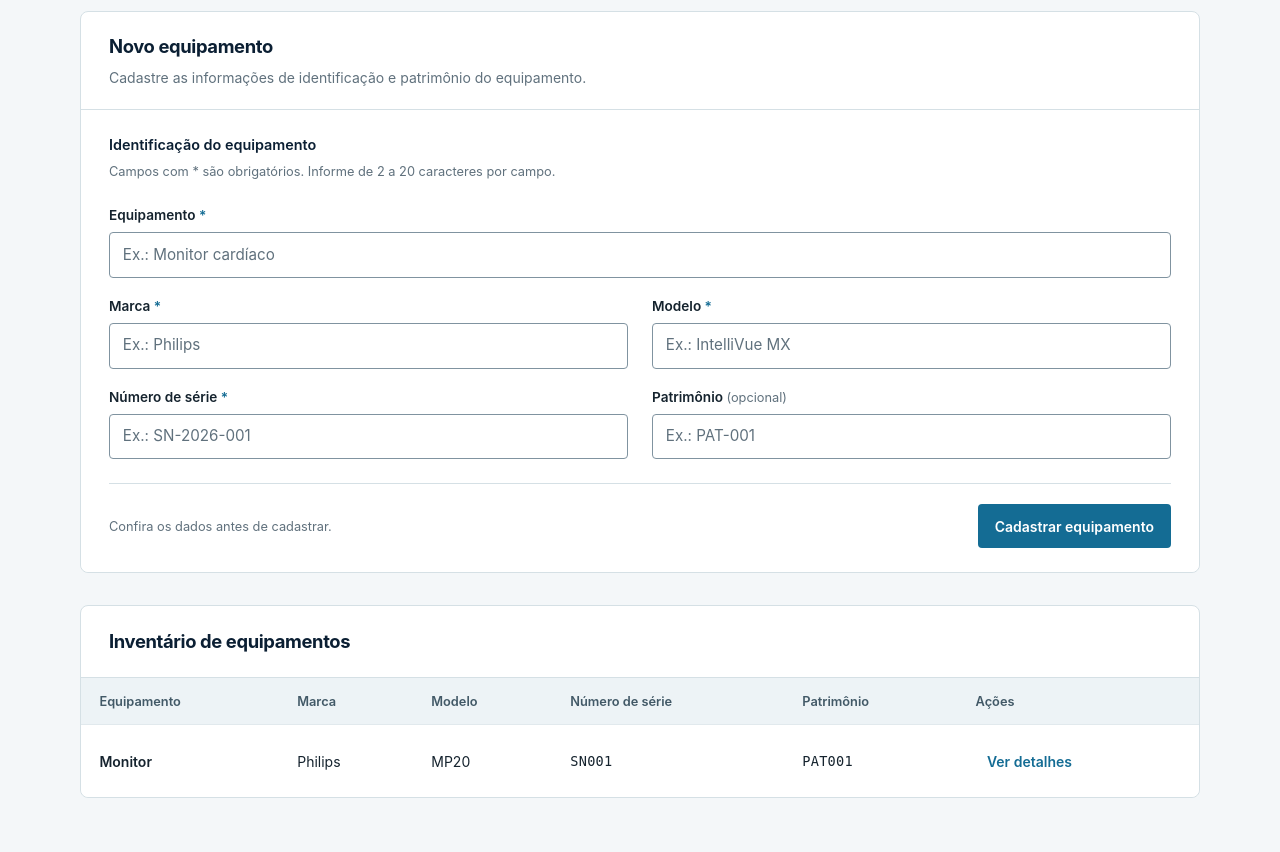
abre a edição com os dados atuais e permite cancelar sem PUT, restaurando o foco
This screenshot has width=1280, height=852.
(page scrolled)
Click the button with aria-label "Ver detalhes de Monitor (SN001)": point(1029, 761) left=976, top=739, right=1083, bottom=783
(page scrolled)
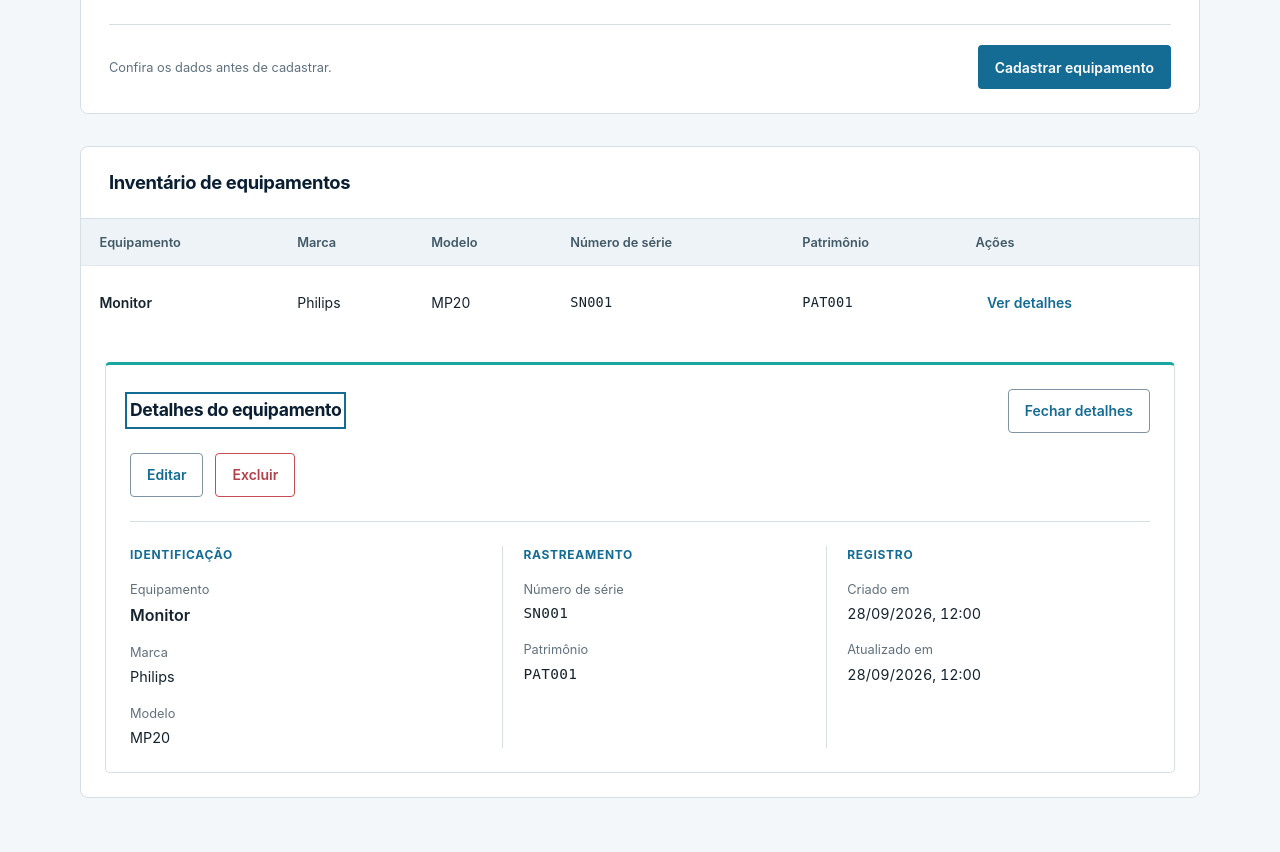
Click the button "Editar": point(167, 475) left=130, top=453, right=204, bottom=497
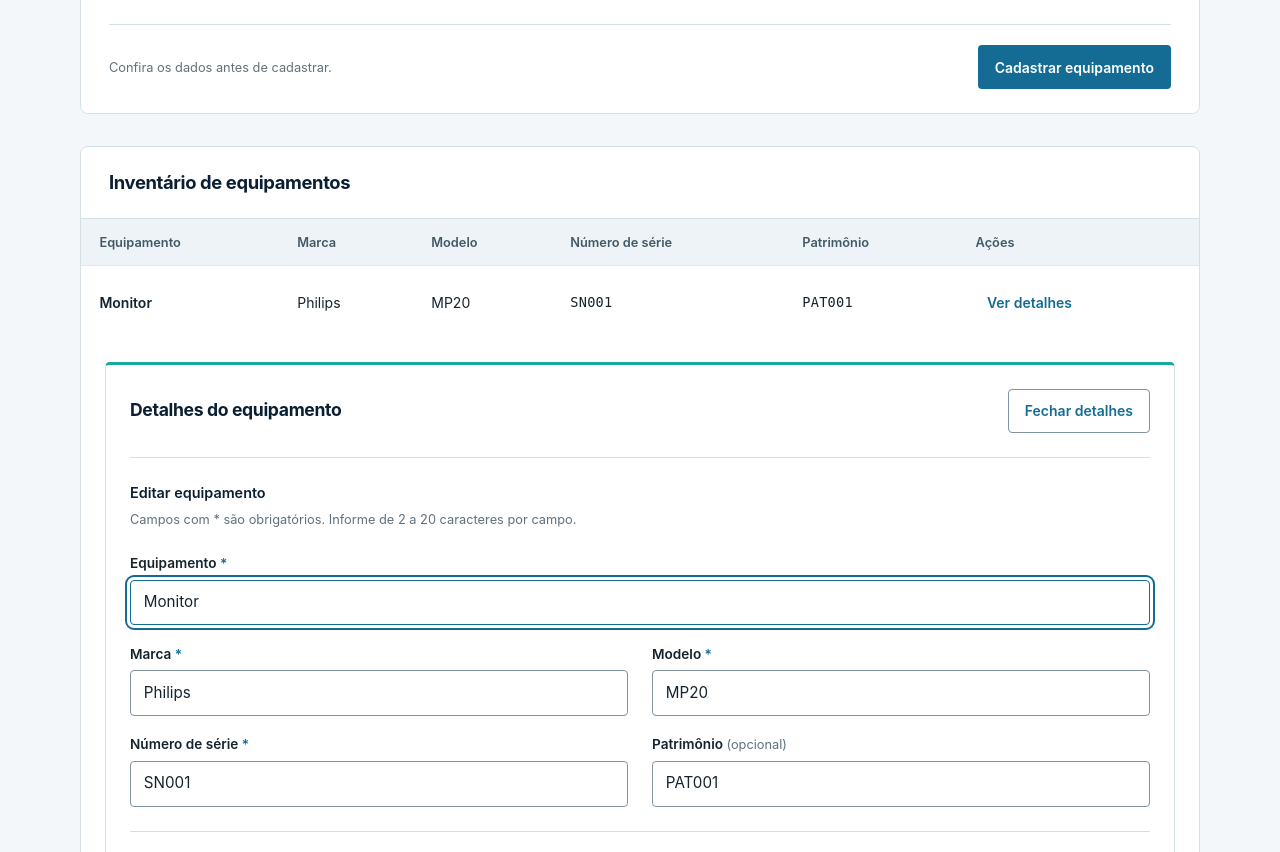
Expected: the field labelled "Equipamento" holds "Monitor"
Expected: the field labelled "Marca" holds "Philips", left=130, top=670, right=628, bottom=716
Expected: the field labelled "Modelo" holds "MP20", left=652, top=670, right=1150, bottom=716
Replace the text in the field labelled "Equipamento" with "Alteração descartada": point(640, 602) left=130, top=580, right=1150, bottom=625
(page scrolled)
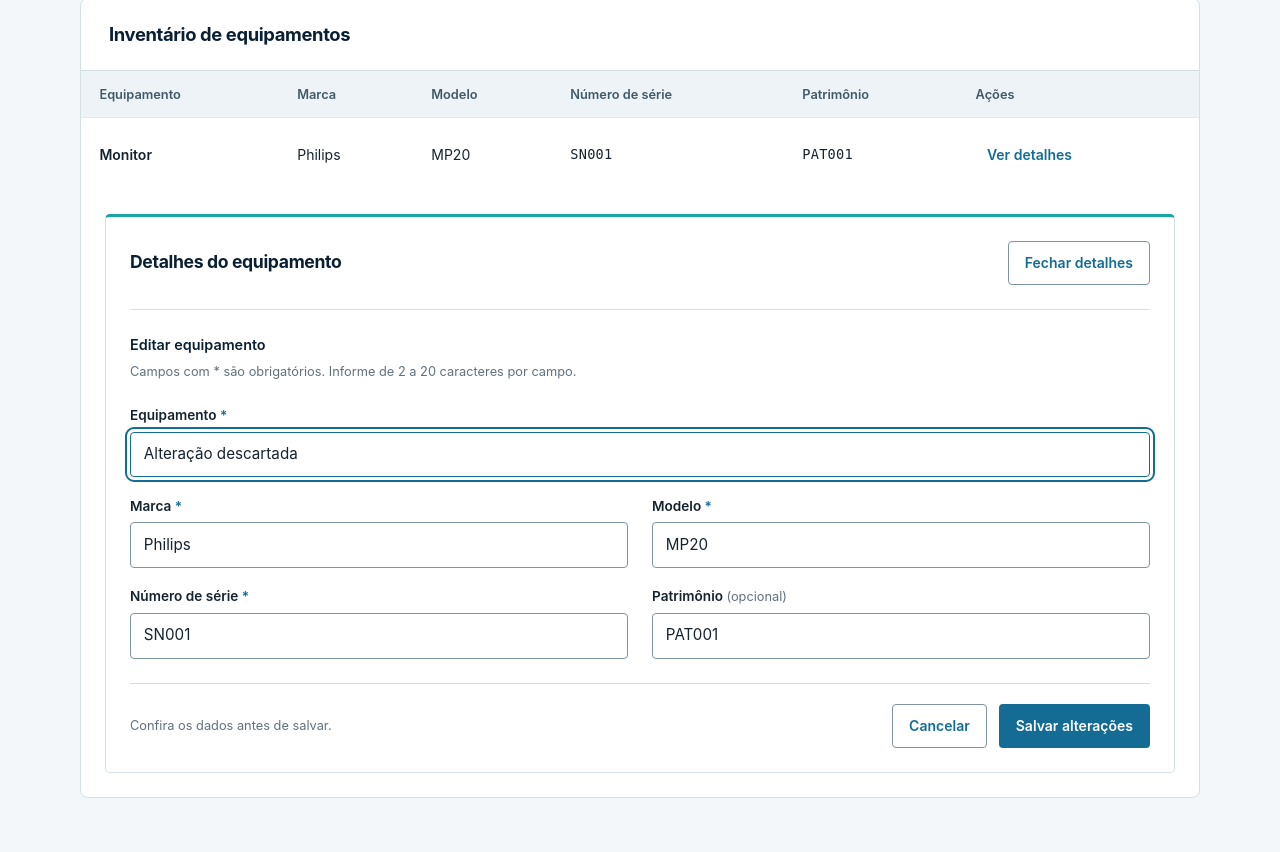
Click the button "Cancelar": point(939, 726) left=892, top=704, right=987, bottom=748
(page scrolled)
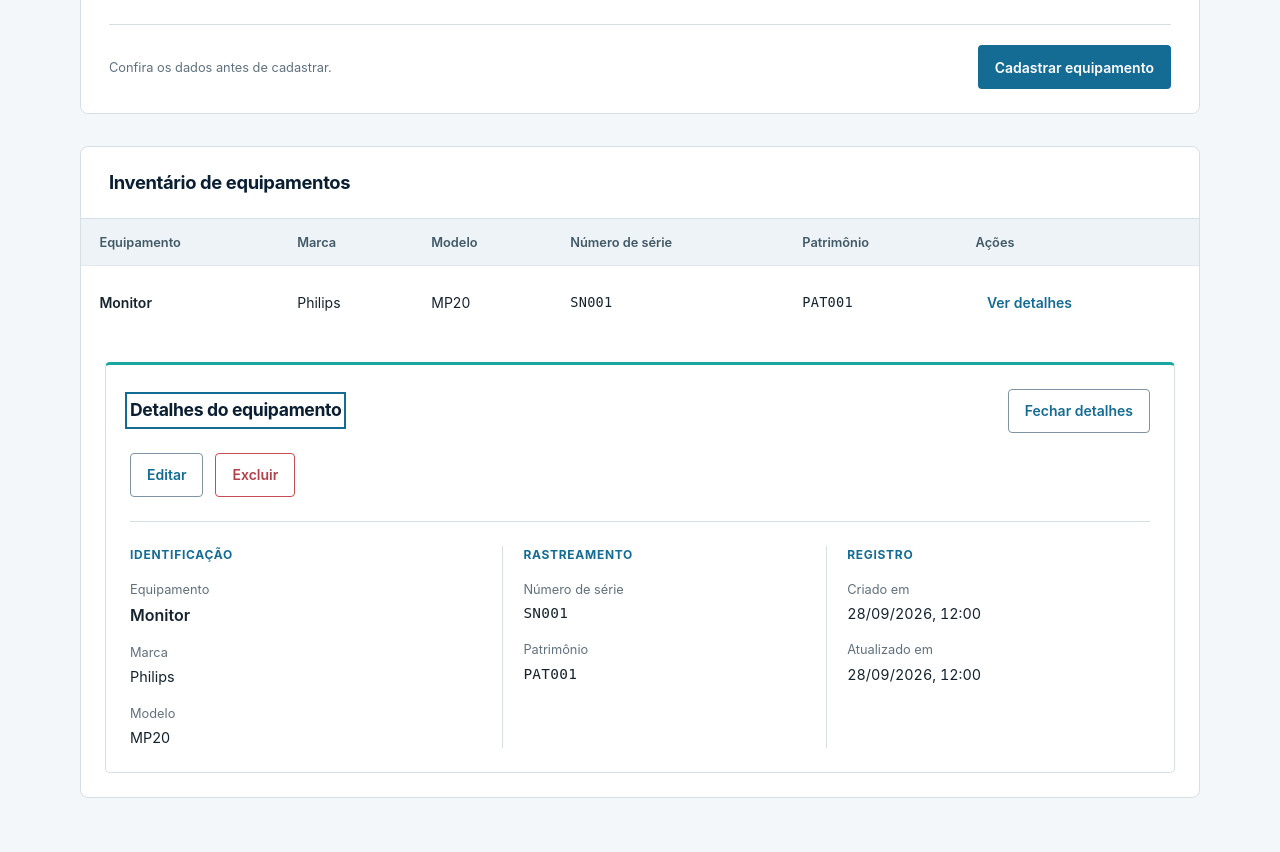
Expected: the text "Monitor" is shown, left=130, top=605, right=190, bottom=625
